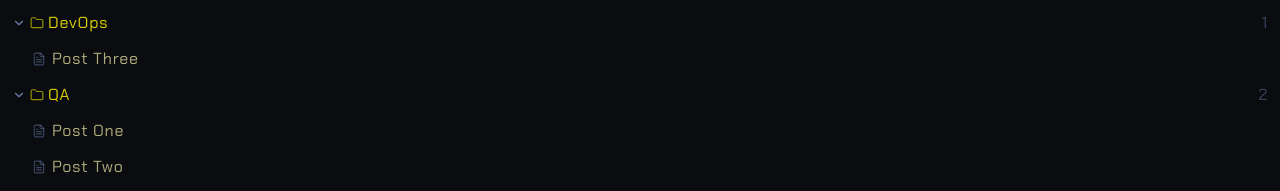
CategoryTree › collapses category when clicking category header
What coordinates should you click on to do the following:
click the text "QA"
I would click on:
 (59, 95)
Its box is [48,83,70,107].
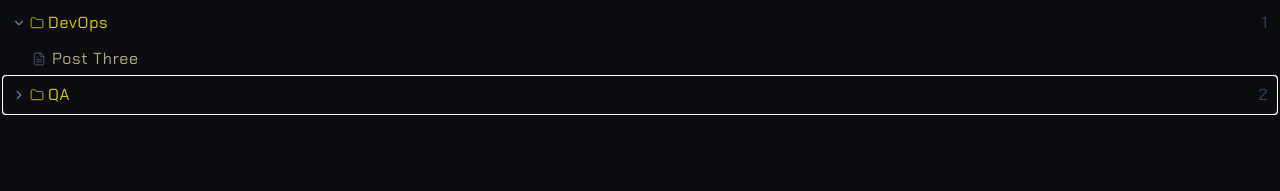
Expected: the text "Post Three" is shown, [52,47,139,71]
Result: the link "Post One" is gone
